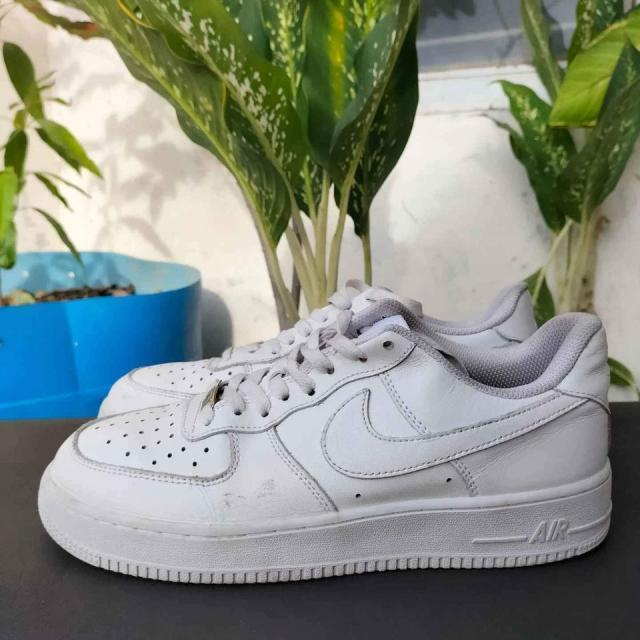nike original air force: (36, 305, 614, 587)
